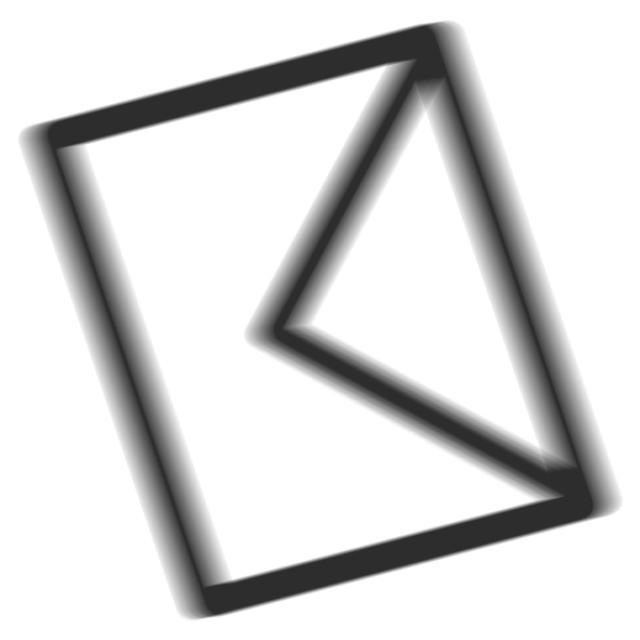letter: (15, 13, 629, 633)
